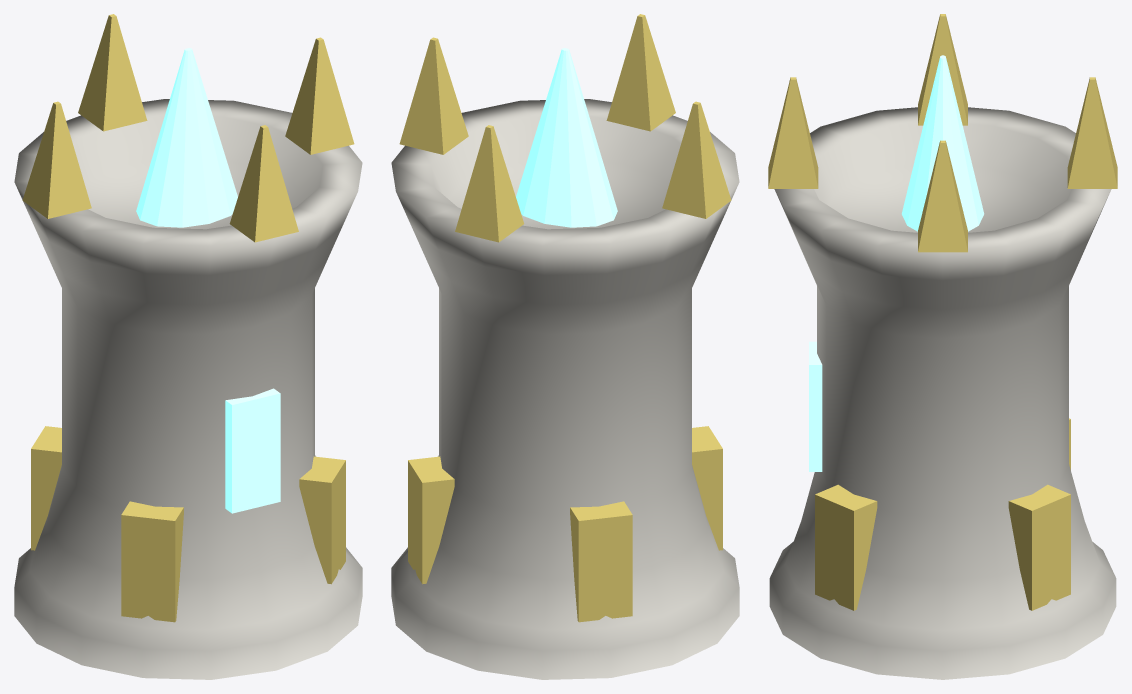
The model's file is rook_w.glb.
3 renders of one model, left to right at view 1: azimuth 30°, elevation 25°; view 2: azimuth 150°, elevation 25°; view 3: azimuth 270°, elevation 25°, orthographic.
Parts seen in each view (by area): view 1: Rook_Tower, Hình Nón.120, Khối Lập Phương.026, Khối Lập Phương.028, Hình Nón.118, Hình Nón.119, Hình Nón.116, Hình Nón.117, Khối Lập Phương.027, Khối Lập Phương.025; view 2: Rook_Tower, Hình Nón.120, Khối Lập Phương.025, Hình Nón.118, Hình Nón.117, Hình Nón.116, Hình Nón.119, Khối Lập Phương.024, Khối Lập Phương.026; view 3: Rook_Tower, Khối Lập Phương.024, Khối Lập Phương.027, Hình Nón.120, Hình Nón.116, Hình Nón.117, Hình Nón.119, Hình Nón.118, Khối Lập Phương.028.
Boxes of the visible parts, x1,y1,x2,y2 form: Rook_Tower: [14, 99, 362, 679]; Hình Nón.120: [136, 48, 237, 227]; Khối Lập Phương.026: [121, 501, 183, 622]; Khối Lập Phương.028: [225, 388, 280, 513]; Hình Nón.118: [22, 101, 91, 218]; Hình Nón.119: [229, 125, 298, 242]; Hình Nón.116: [285, 37, 354, 154]; Hình Nón.117: [78, 14, 147, 131]; Khối Lập Phương.027: [299, 456, 345, 584]; Khối Lập Phương.025: [31, 426, 61, 550]; Rook_Tower: [391, 99, 739, 679]; Hình Nón.120: [516, 48, 617, 227]; Khối Lập Phương.025: [570, 501, 632, 622]; Hình Nón.118: [662, 101, 731, 218]; Hình Nón.117: [455, 125, 524, 242]; Hình Nón.116: [399, 37, 468, 154]; Hình Nón.119: [606, 14, 675, 131]; Khối Lập Phương.024: [408, 456, 454, 584]; Khối Lập Phương.026: [692, 426, 722, 550]; Rook_Tower: [769, 107, 1116, 679]; Khối Lập Phương.024: [1008, 484, 1070, 610]; Khối Lập Phương.027: [815, 484, 877, 610]; Hình Nón.120: [901, 55, 984, 231]; Hình Nón.116: [918, 140, 967, 252]; Hình Nón.117: [1067, 77, 1117, 188]; Hình Nón.119: [768, 77, 818, 188]; Hình Nón.118: [918, 14, 967, 125]; Khối Lập Phương.028: [809, 341, 822, 471].
Bounding box in the file's own units: 0.4436 × 0.77 × 0.4436.
